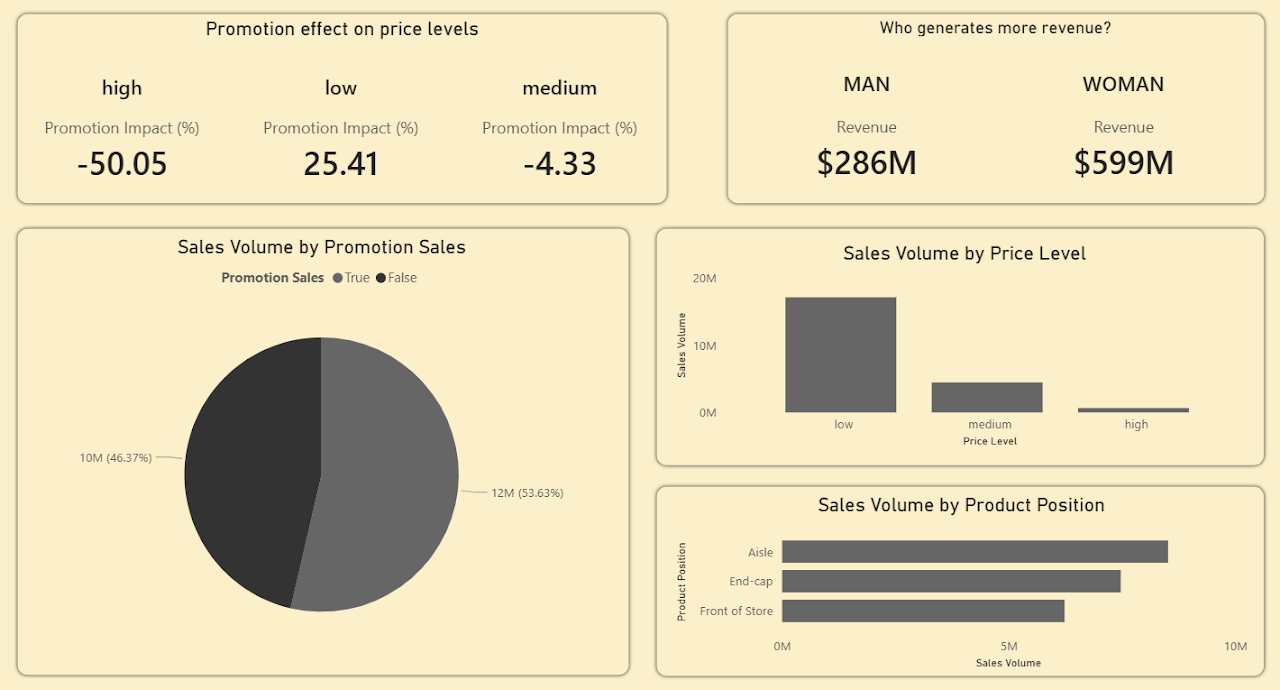

The page's visual inventory and layout, read from the dashboard file:
{"tool":"powerbi","page":{"name":"Revenue","canvas":[1280,720],"ordinal":1},"visuals":[{"type":"group","id":"g1","title":"Background","box":[13.3,41.6,1249.5,667.2],"z":0},{"type":"cardVisual","title":"Who generates more revenue?","fields":{"Rows":["zara sales final.section"],"Data":["Sum(zara sales final.total_revenue)"]},"box":[736.4,48.2,510.9,199.1],"z":1000},{"type":"clusteredColumnChart","fields":{"Y":["zara sales final.Sales Volume"],"Category":["zara sales final.price_category"]},"box":[667.8,272.2,585.6,208.9],"z":2000},{"type":"clusteredBarChart","fields":{"Y":["zara sales final.Sales Volume"],"Category":["zara sales final.product_position"]},"box":[668.1,522.3,579.3,179.2],"z":3000},{"type":"pieChart","fields":{"Y":["zara sales final.Sales Volume"],"Category":["zara sales final.promotion"]},"box":[23.5,266.1,593.8,425.5],"z":4000},{"type":"shape","box":[720.5,41.6,542.2,196.4],"z":4500,"group":"g1"},{"type":"cardVisual","title":"Promotion effect on price levels","fields":{"Data":["zara sales final.Promotion Impact (%)"],"Rows":["zara sales final.price_category"]},"box":[13.6,48.2,654.5,199.1],"z":5000},{"type":"shape","box":[649.9,255.2,612.8,243.5],"z":5000,"group":"g1"},{"type":"shape","box":[13.3,255.5,616.7,452.2],"z":5250,"group":"g1"},{"type":"shape","box":[649.9,512.3,612.8,196.4],"z":5500,"group":"g1"},{"type":"shape","box":[13.5,41.6,654.5,196.4],"z":6500,"group":"g1"}]}

Visuals, with their boxes on the page's 1280x720 design canvas (x1, y1, x2, y2). These are canvas units, not pixel positions in the 1280x690 screenshot, which may show the page scaled, cropped or inside an application window:
"Background" group: bbox=[13, 42, 1263, 709]
"Who generates more revenue?" cardVisual: bbox=[736, 48, 1247, 247]
clusteredColumnChart - zara sales final.Sales Volume x zara sales final.price_category: bbox=[668, 272, 1253, 481]
clusteredBarChart - zara sales final.Sales Volume x zara sales final.product_position: bbox=[668, 522, 1247, 702]
pieChart - zara sales final.Sales Volume x zara sales final.promotion: bbox=[24, 266, 617, 692]
shape: bbox=[720, 42, 1263, 238]
"Promotion effect on price levels" cardVisual: bbox=[14, 48, 668, 247]
shape: bbox=[650, 255, 1263, 499]
shape: bbox=[13, 256, 630, 708]
shape: bbox=[650, 512, 1263, 709]
shape: bbox=[14, 42, 668, 238]
